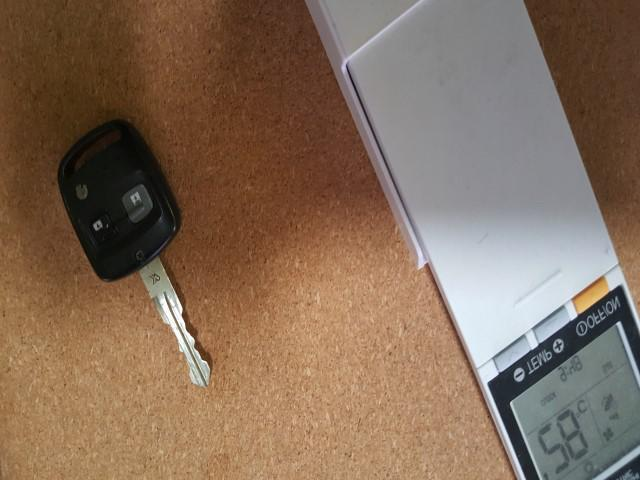key: (57, 119, 209, 209)
